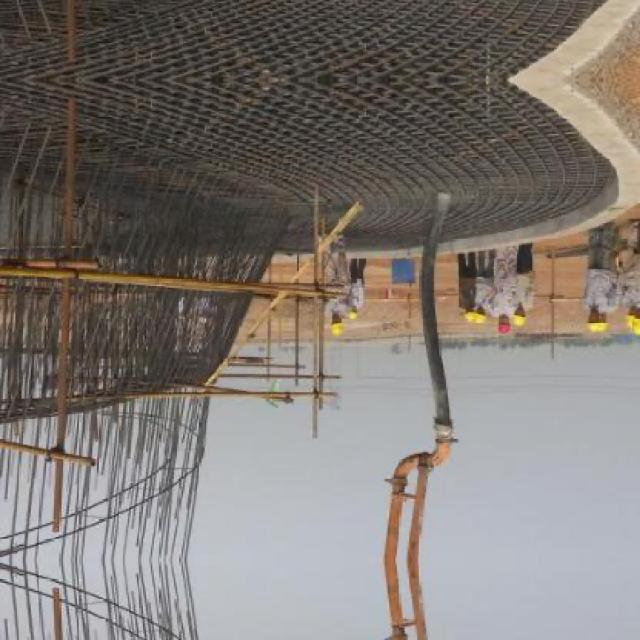con casco: (317, 310, 361, 338), (511, 312, 537, 336), (588, 309, 614, 332)
